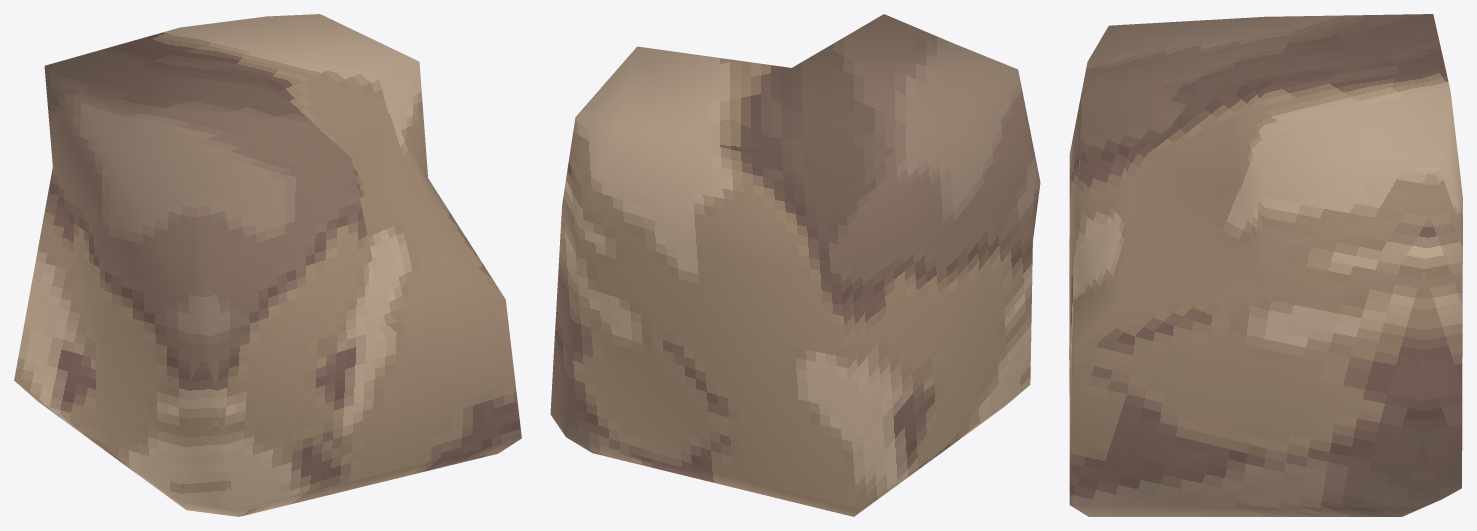
The model's file is rock3.glb.
3 renders of one model, left to right at view 1: azimuth 30°, elevation 25°; view 2: azimuth 150°, elevation 25°; view 3: azimuth 270°, elevation 25°, orthographic. The views are drawn at different scales.
Visible parts, largest first — view 1: Bombable Rock.002_Tiles2_0.001; view 2: Bombable Rock.002_Tiles2_0.001; view 3: Bombable Rock.002_Tiles2_0.001.
Part boxes in pixels (x1,y1,x2,y2): Bombable Rock.002_Tiles2_0.001: (14, 14, 521, 516); Bombable Rock.002_Tiles2_0.001: (550, 14, 1040, 516); Bombable Rock.002_Tiles2_0.001: (1069, 14, 1462, 516).
Bounding box in the file's own units: 0.0826 × 0.0838 × 0.0827.
Materials: 1 (1 with a texture image).
